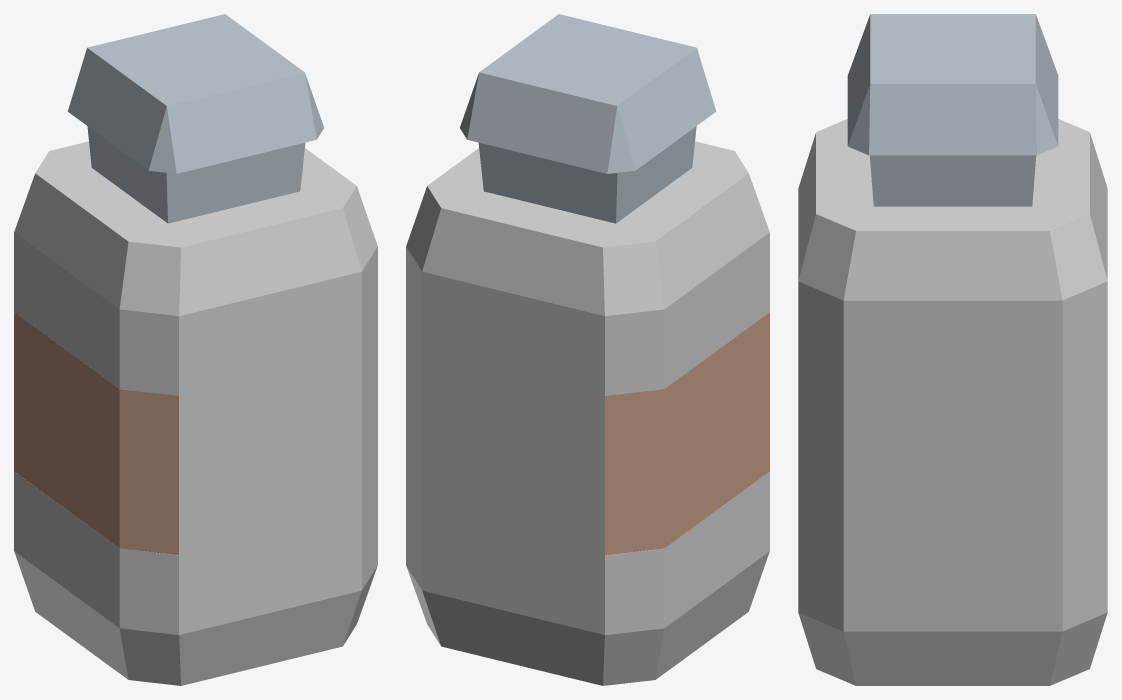
Rendered from shaker-pepper.glb.
3 renders of one model, left to right at view 1: azimuth 30°, elevation 25°; view 2: azimuth 150°, elevation 25°; view 3: azimuth 270°, elevation 25°, orthographic. The views are drawn at different scales.
Parts seen in each view (by area): view 1: shakerPepper; view 2: shakerPepper; view 3: shakerPepper.
Boxes of the visible parts, x1=… form: shakerPepper: x1=14, y1=14, x2=377, y2=685; shakerPepper: x1=406, y1=14, x2=769, y2=685; shakerPepper: x1=798, y1=14, x2=1107, y2=685.
Bounding box in the file's own units: 0.0949 × 0.196 × 0.0949.
